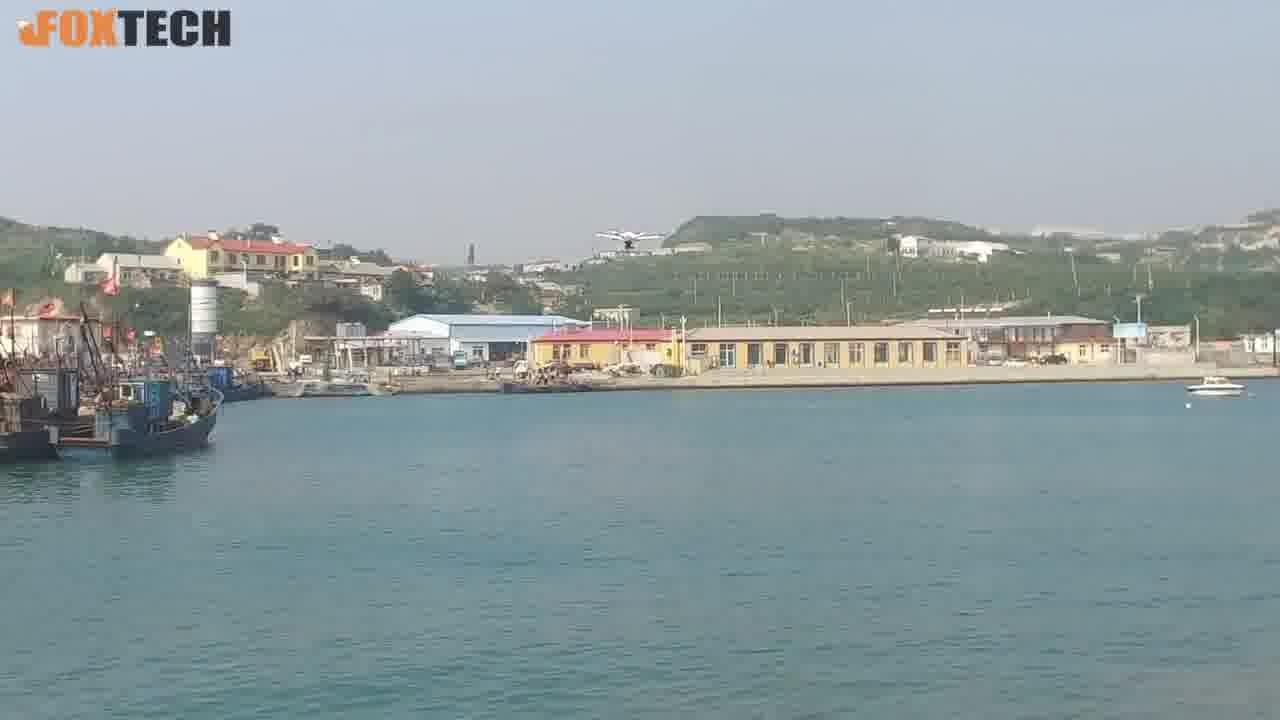drone: (591, 223, 674, 250)
